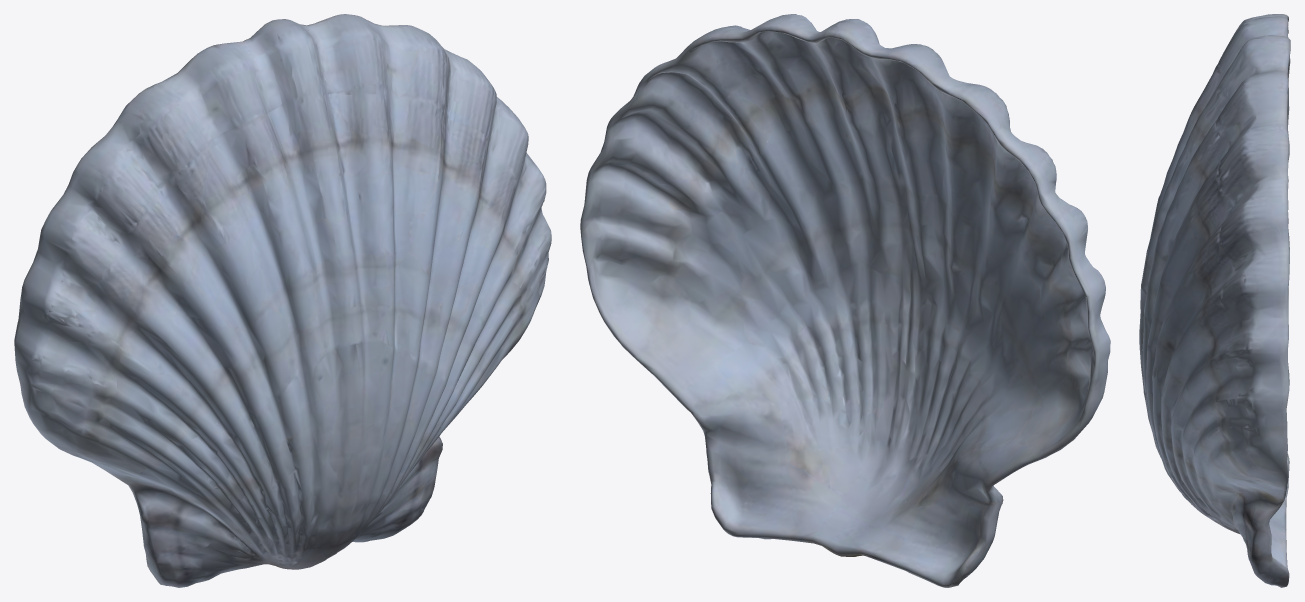
3 views of the same model, side by side, from view 1: azimuth 30°, elevation 25°; view 2: azimuth 150°, elevation 25°; view 3: azimuth 270°, elevation 25° (orthographic). The views are drawn at different scales.
Size of the model in its own units: 1.9 by 1.86 by 0.5115.
Materials: 1 (1 with a texture image).
